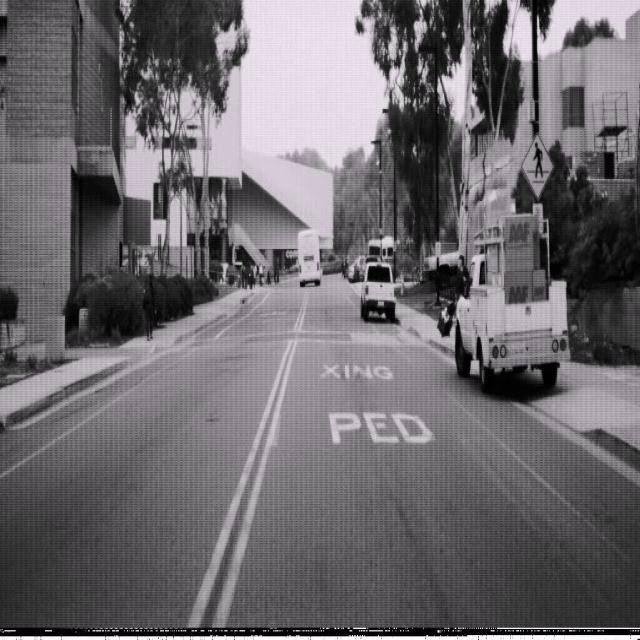pedestrianCrossing: (520, 130, 554, 200)
